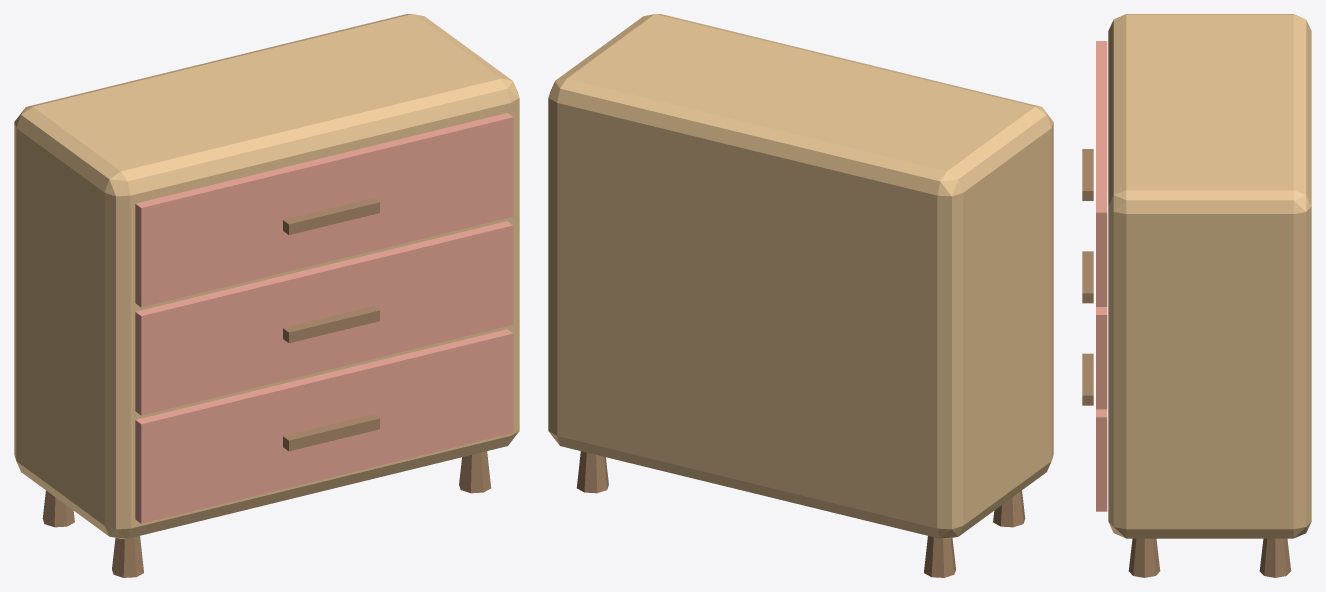
Rendered from cozy-home-interiors-dresser-aeda8121.glb.
The picture shows the model from 3 angles, left to right: view 1: azimuth 30°, elevation 25°; view 2: azimuth 150°, elevation 25°; view 3: azimuth 270°, elevation 25°; orthographic projection. The views are drawn at different scales.
Visible parts, largest first — view 1: dresser; view 2: dresser; view 3: dresser.
Part boxes in pixels (bbox=[...]): dresser: bbox=[14, 14, 519, 577]; dresser: bbox=[548, 14, 1053, 577]; dresser: bbox=[1082, 14, 1311, 577].
Size of the model in its own units: 1 by 0.95 by 0.5075.
